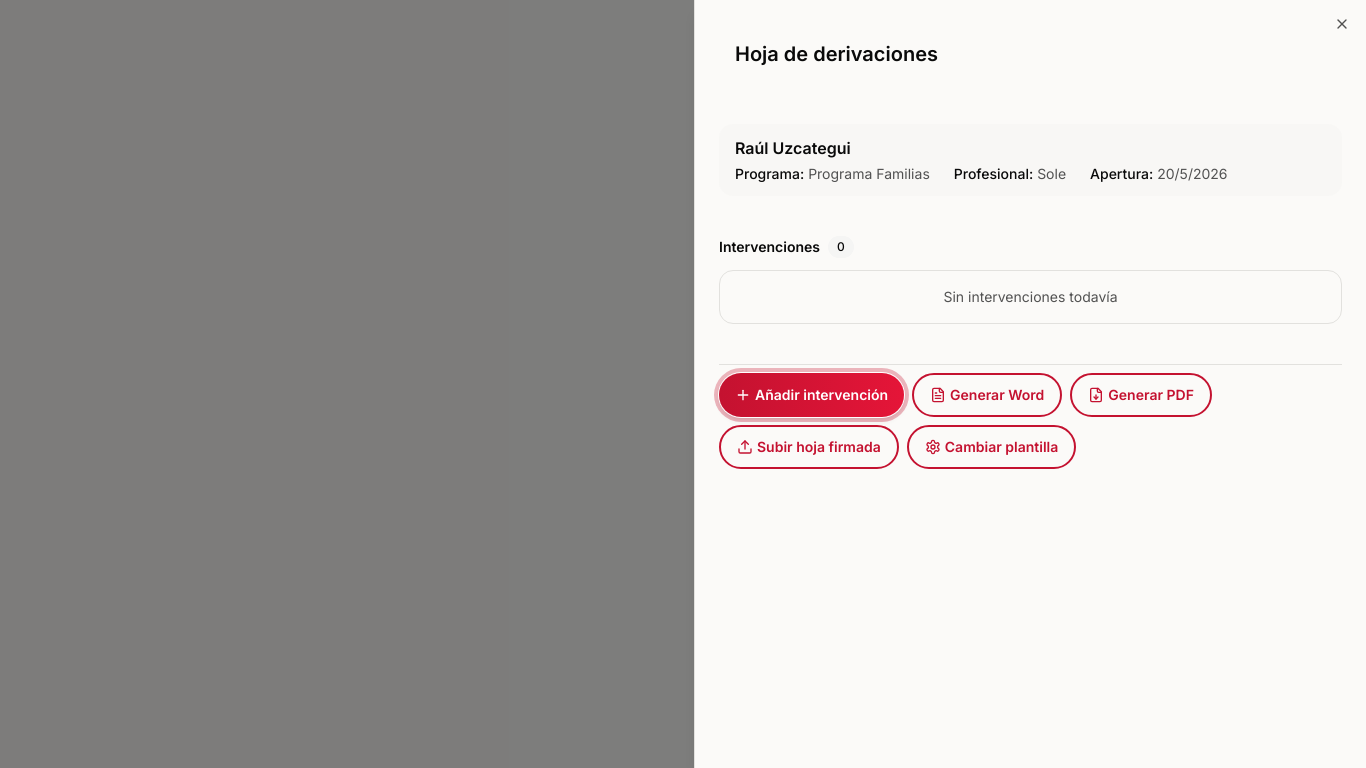
Scenario: HojaDrawer — template management modal › closes the template modal when 'Cerrar' is clicked
Click the button "Cambiar plantilla". click: coordinates (992, 447)
box: top-left (907, 425), bottom-right (1076, 469)
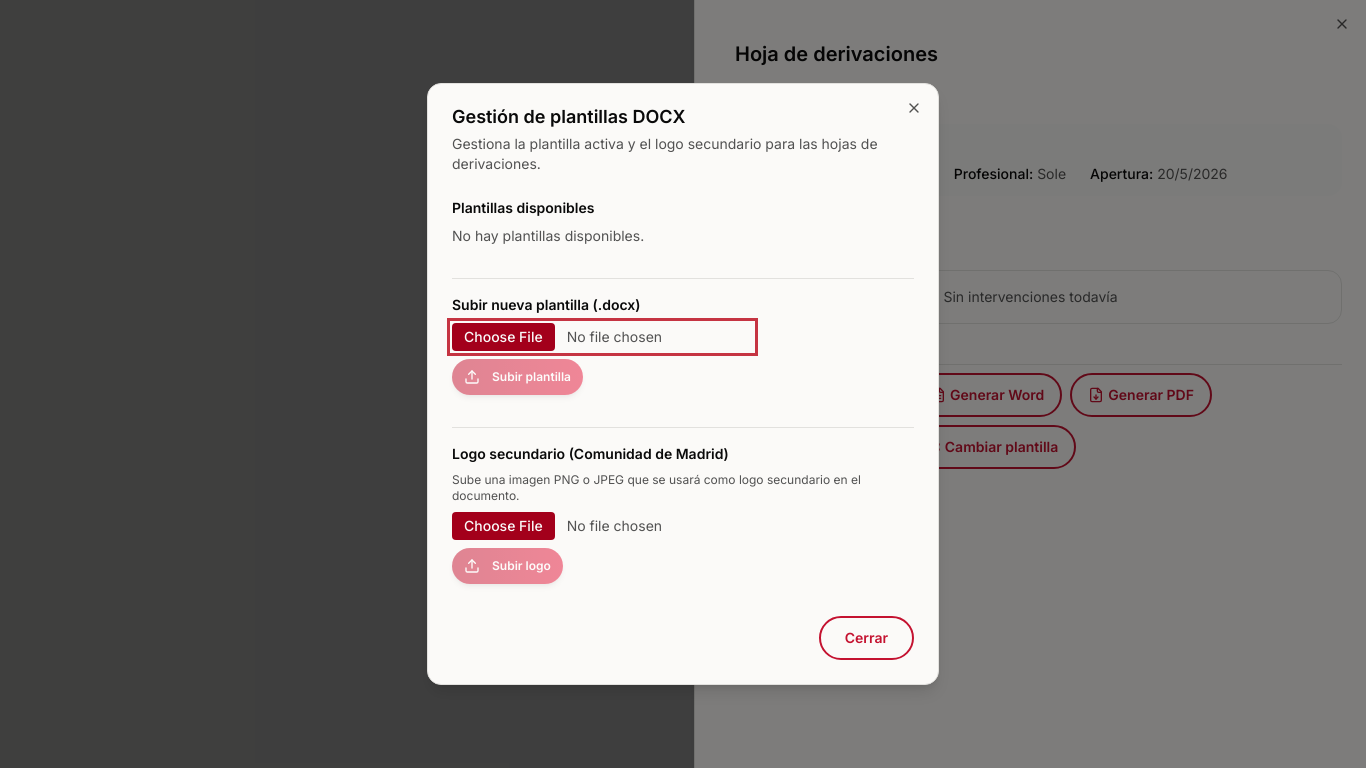
Check: the dialog "Gestión de plantillas" is shown, box top-left (427, 83), bottom-right (939, 685)
Click the button "Cerrar". click: coordinates (866, 638)
box: top-left (819, 616), bottom-right (914, 660)
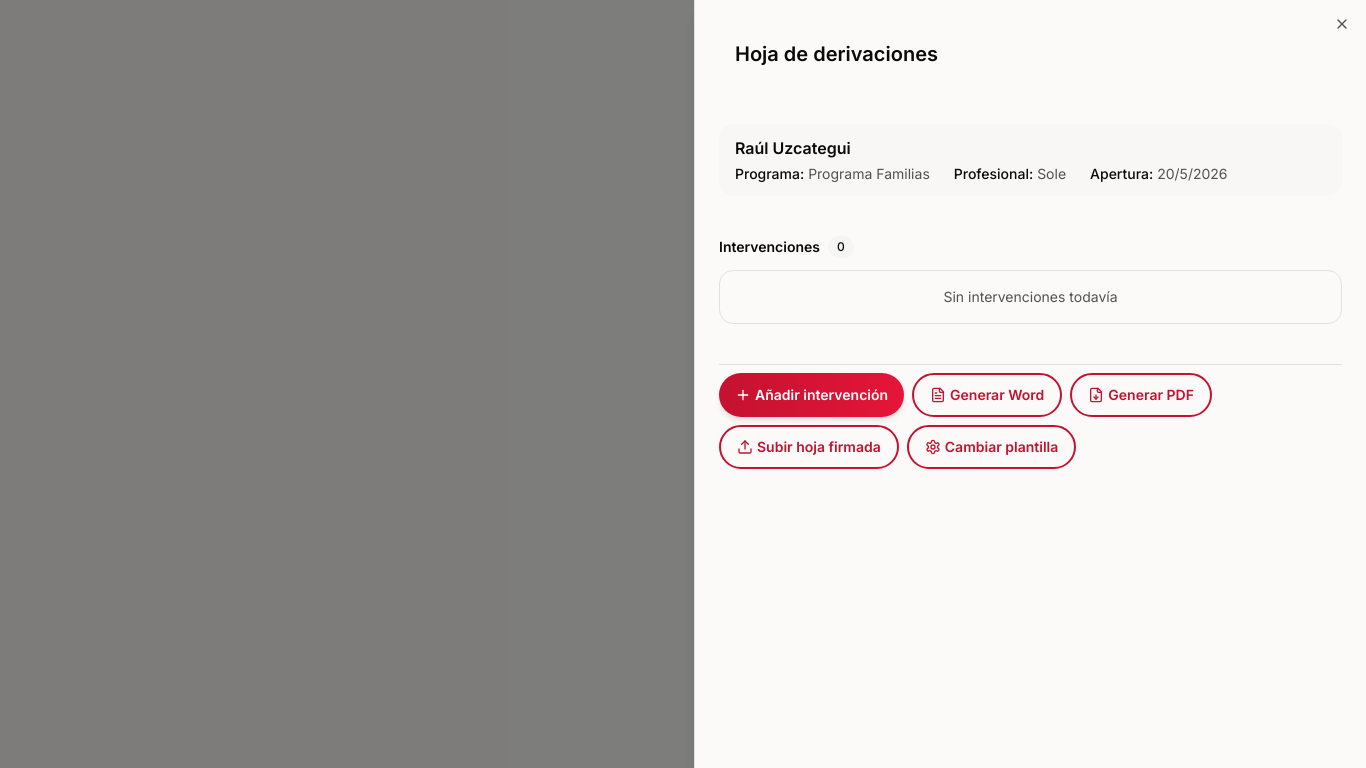
Check: the heading "Gestión de plantillas DOCX" is gone
